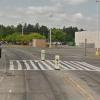Crosswalk: (9, 52, 100, 86)
